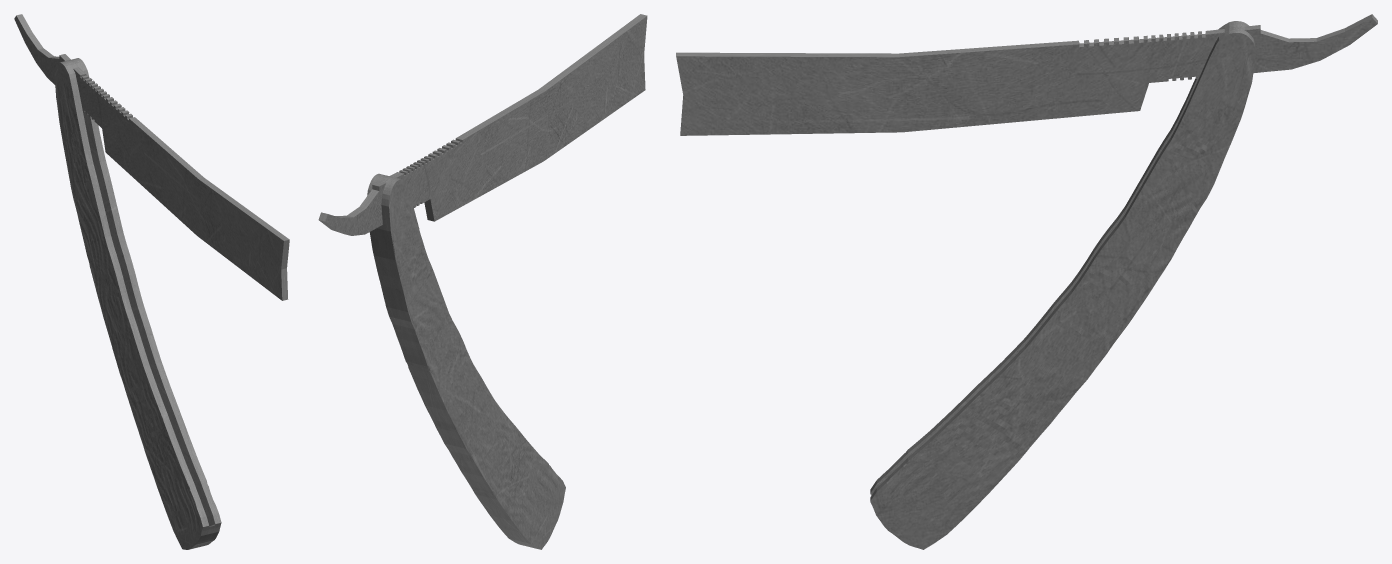
The model's file is razor.fbx.
The picture shows the model from 3 angles, left to right: view 1: azimuth 30°, elevation 25°; view 2: azimuth 150°, elevation 25°; view 3: azimuth 270°, elevation 25°; orthographic projection. The views are drawn at different scales.
Parts seen in each view (by area): view 1: Cube, Cube.001; view 2: Cube, Cube.001; view 3: Cube, Cube.001.
Boxes of the visible parts, <box> form: Cube: <box>54,58,221,549</box>; Cube.001: <box>14,14,289,300</box>; Cube: <box>367,173,565,549</box>; Cube.001: <box>318,14,647,235</box>; Cube: <box>870,21,1255,549</box>; Cube.001: <box>676,14,1377,135</box>.
Bounding box in the file's own units: 1.02 × 20.12 × 24.22.
